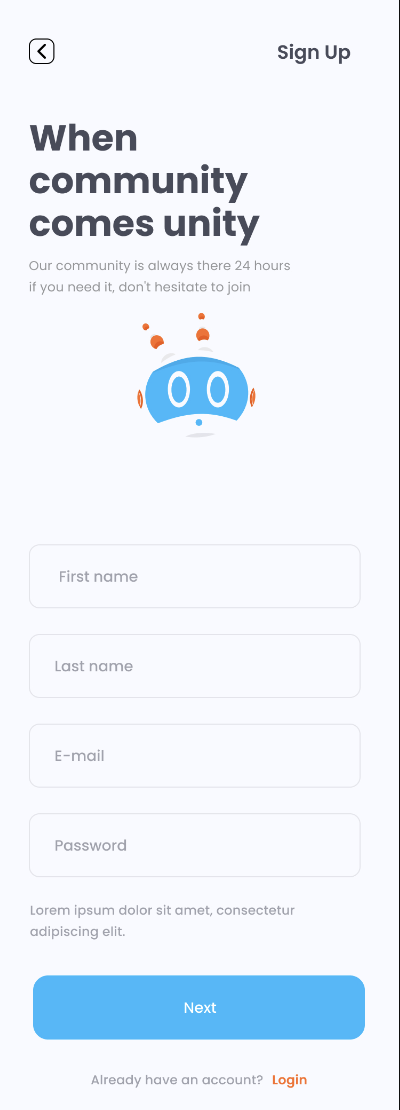Input: (26, 631, 364, 702), (26, 810, 363, 879), (27, 541, 363, 610), (27, 722, 363, 790)
